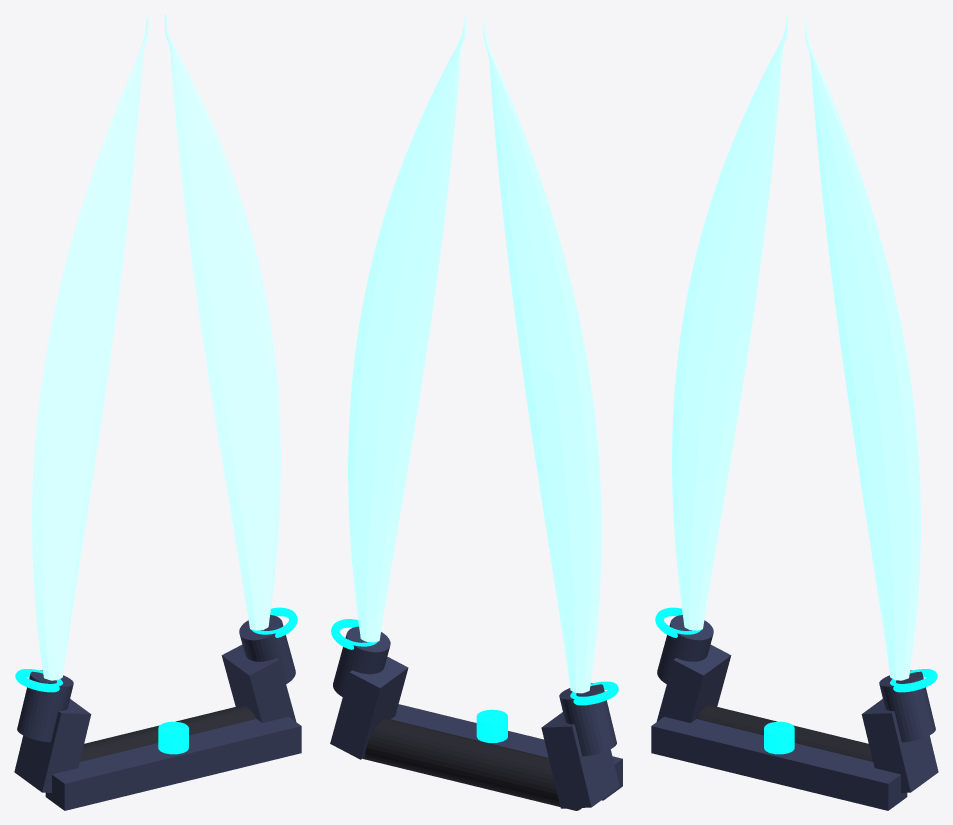
The model's file is Energy_Sword_Plasma.fbx.
3 views of the same model, side by side, from view 1: azimuth 30°, elevation 25°; view 2: azimuth 150°, elevation 25°; view 3: azimuth 330°, elevation 25° (orthographic).
Visible parts, largest first — view 1: GEO-energy_sword_blade_L, GEO-energy_sword_blade_R, GEO-energy_sword_handguard, GEO-energy_sword_emitter_arm_-1, GEO-energy_sword_emitter_arm_1, GEO-energy_sword_main_grip, GEO-energy_sword_nozzle_-1, GEO-energy_sword_nozzle_1, GEO-energy_sword_power_crystal, GEO-energy_sword_confinement_ring_-1, GEO-energy_sword_confinement_ring_1; view 2: GEO-energy_sword_blade_L, GEO-energy_sword_blade_R, GEO-energy_sword_main_grip, GEO-energy_sword_emitter_arm_1, GEO-energy_sword_emitter_arm_-1, GEO-energy_sword_handguard, GEO-energy_sword_nozzle_-1, GEO-energy_sword_nozzle_1, GEO-energy_sword_power_crystal, GEO-energy_sword_confinement_ring_-1, GEO-energy_sword_confinement_ring_1; view 3: GEO-energy_sword_blade_R, GEO-energy_sword_blade_L, GEO-energy_sword_handguard, GEO-energy_sword_emitter_arm_1, GEO-energy_sword_emitter_arm_-1, GEO-energy_sword_main_grip, GEO-energy_sword_nozzle_1, GEO-energy_sword_nozzle_-1, GEO-energy_sword_power_crystal, GEO-energy_sword_confinement_ring_1, GEO-energy_sword_confinement_ring_-1.
Part boxes in pixels (x1,y1,x2,y2): GEO-energy_sword_blade_L: (32,18,148,680); GEO-energy_sword_blade_R: (164,14,280,630); GEO-energy_sword_handguard: (45,716,301,810); GEO-energy_sword_emitter_arm_-1: (14,699,91,792); GEO-energy_sword_emitter_arm_1: (221,644,296,722); GEO-energy_sword_main_grip: (80,705,256,761); GEO-energy_sword_nozzle_-1: (17,670,73,742); GEO-energy_sword_nozzle_1: (239,615,295,683); GEO-energy_sword_power_crystal: (158,721,188,754); GEO-energy_sword_confinement_ring_-1: (15,669,62,692); GEO-energy_sword_confinement_ring_1: (251,607,297,637); GEO-energy_sword_blade_L: (483,18,601,693); GEO-energy_sword_blade_R: (348,14,466,642); GEO-energy_sword_main_grip: (362,718,581,810); GEO-energy_sword_emitter_arm_1: (330,656,408,759); GEO-energy_sword_emitter_arm_-1: (541,712,619,808); GEO-energy_sword_handguard: (391,704,622,800); GEO-energy_sword_nozzle_-1: (559,683,616,756); GEO-energy_sword_nozzle_1: (333,626,390,696); GEO-energy_sword_power_crystal: (476,709,507,742); GEO-energy_sword_confinement_ring_-1: (570,681,618,705); GEO-energy_sword_confinement_ring_1: (331,619,377,649); GEO-energy_sword_blade_R: (804,18,920,680); GEO-energy_sword_blade_L: (672,14,788,630); GEO-energy_sword_handguard: (651,716,907,810); GEO-energy_sword_emitter_arm_1: (861,699,938,792); GEO-energy_sword_emitter_arm_-1: (656,644,731,722); GEO-energy_sword_main_grip: (696,705,872,761); GEO-energy_sword_nozzle_1: (879,670,935,742); GEO-energy_sword_nozzle_-1: (657,615,713,683); GEO-energy_sword_power_crystal: (764,721,794,754); GEO-energy_sword_confinement_ring_1: (890,669,937,692); GEO-energy_sword_confinement_ring_-1: (655,607,701,637).
Size of the model in its own units: 0.372 by 0.971 by 0.095.
